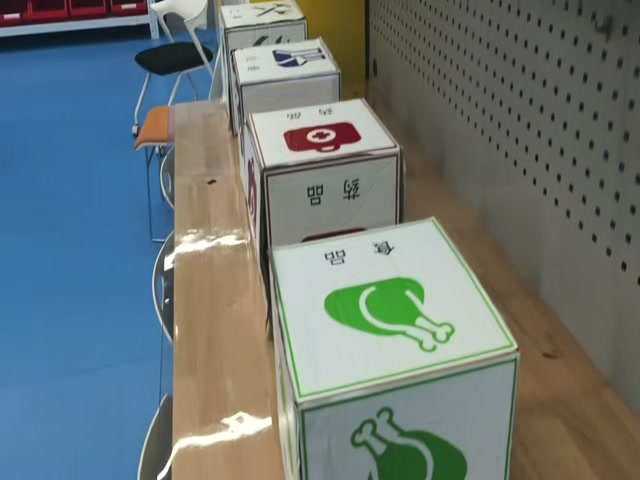Cube_food: (266, 219, 524, 408)
Cube_ins: (228, 39, 340, 86)
Cube_medicine: (238, 98, 397, 173)
Cube_tool: (220, 0, 311, 31)
